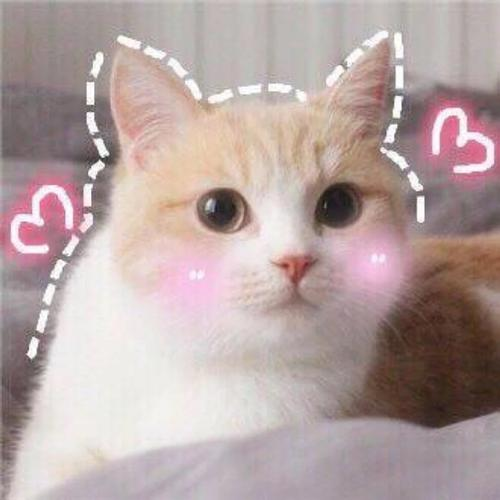cat: (90, 18, 430, 358)
